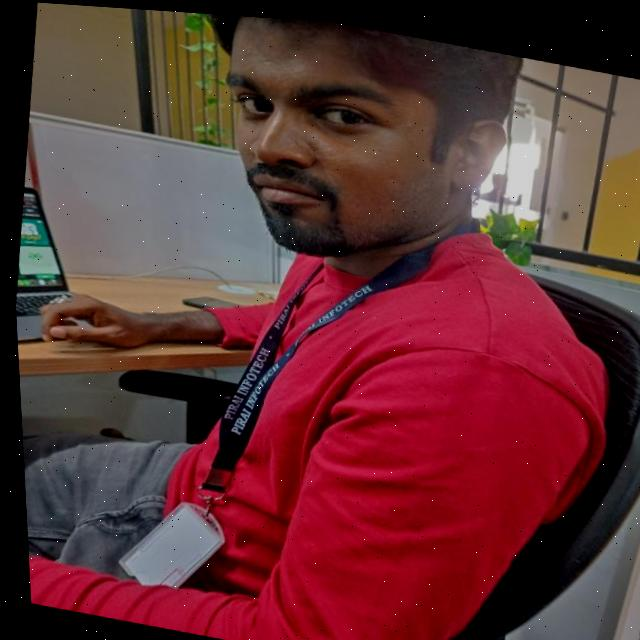id_card: (90, 224, 439, 637)
